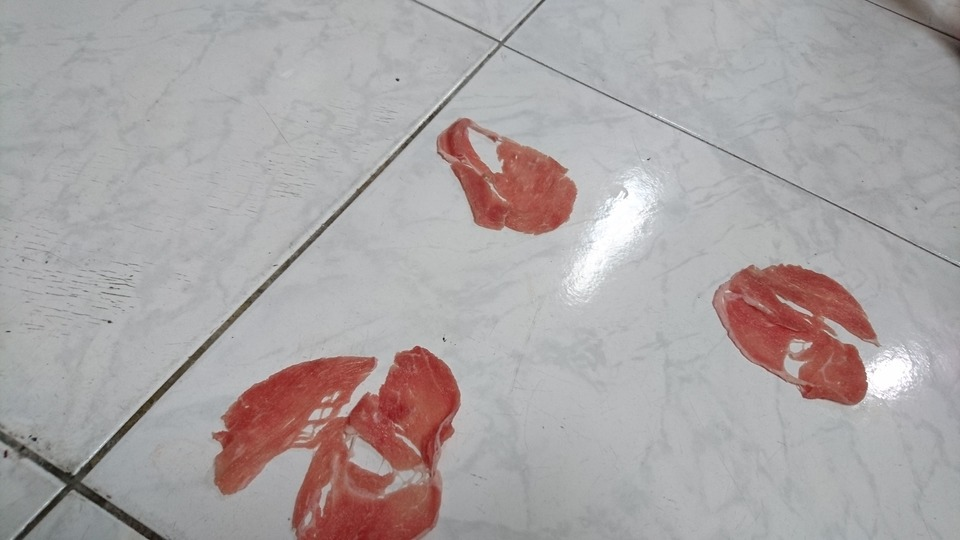restructured meat: (204, 329, 474, 535), (710, 251, 879, 424), (430, 117, 591, 248)
